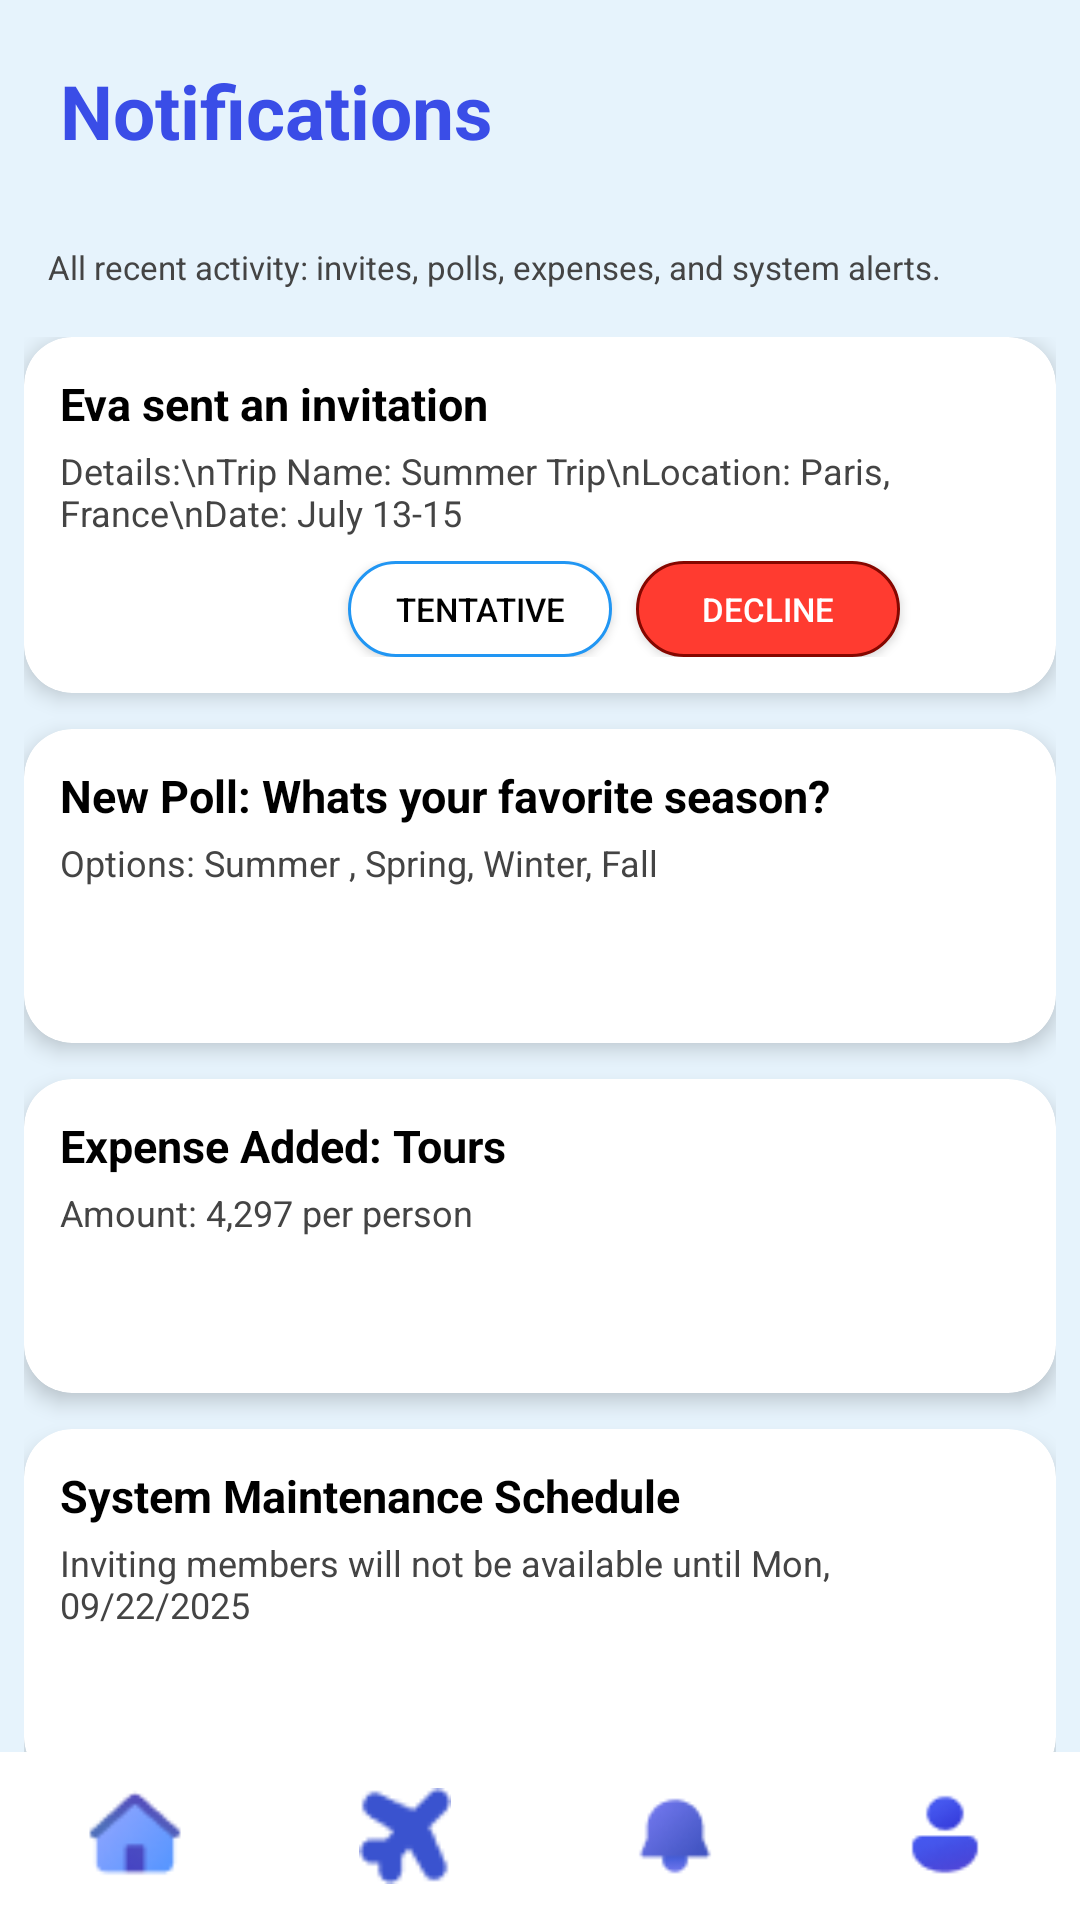

Screen size 1080w x 1920h. Icon name, then its box in pixels as box=[x1, y1, x2, y2]:
airplane: box=[359, 1788, 451, 1884]
home: box=[89, 1793, 181, 1875]
notifications: box=[639, 1798, 711, 1873]
user: box=[911, 1796, 979, 1874]
